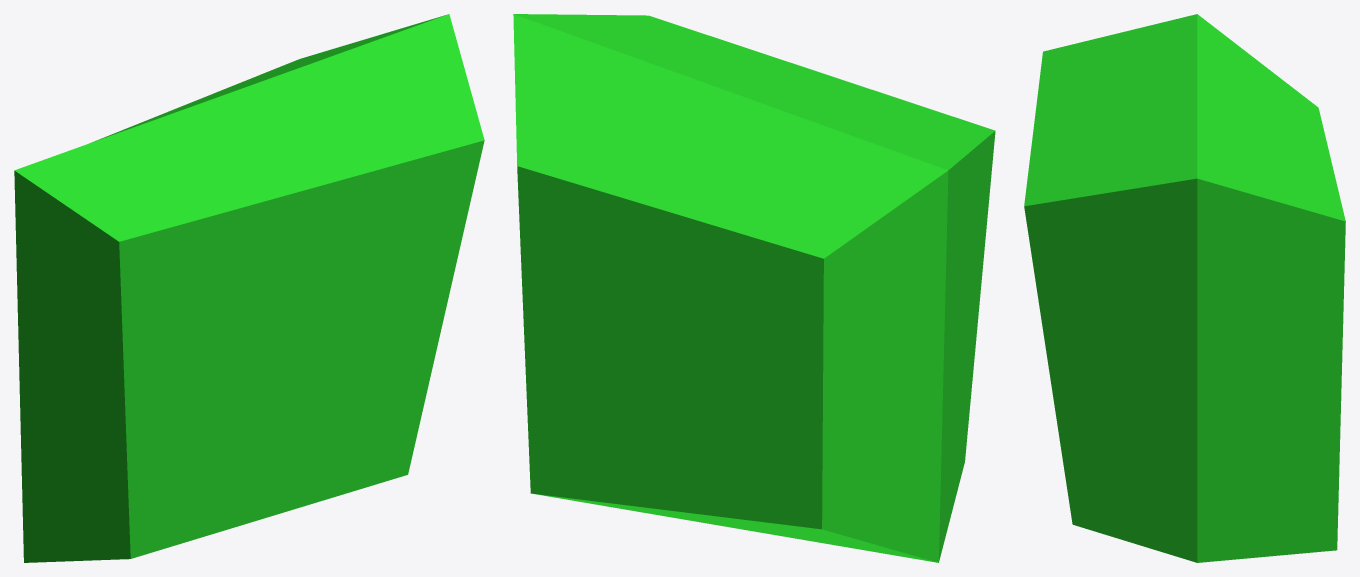
File: Par_Tree_1.fbx
The picture shows the model from 3 angles, left to right: view 1: azimuth 30°, elevation 25°; view 2: azimuth 150°, elevation 25°; view 3: azimuth 270°, elevation 25°; orthographic projection.
Visible parts, largest first — view 1: Par_Tree_1; view 2: Par_Tree_1; view 3: Par_Tree_1.
Part boxes in pixels (x1,y1,x2,y2): Par_Tree_1: [14, 14, 484, 562]; Par_Tree_1: [513, 14, 995, 562]; Par_Tree_1: [1024, 14, 1345, 562].
Size of the model in its own units: 15.49 by 15.15 by 9.76.
